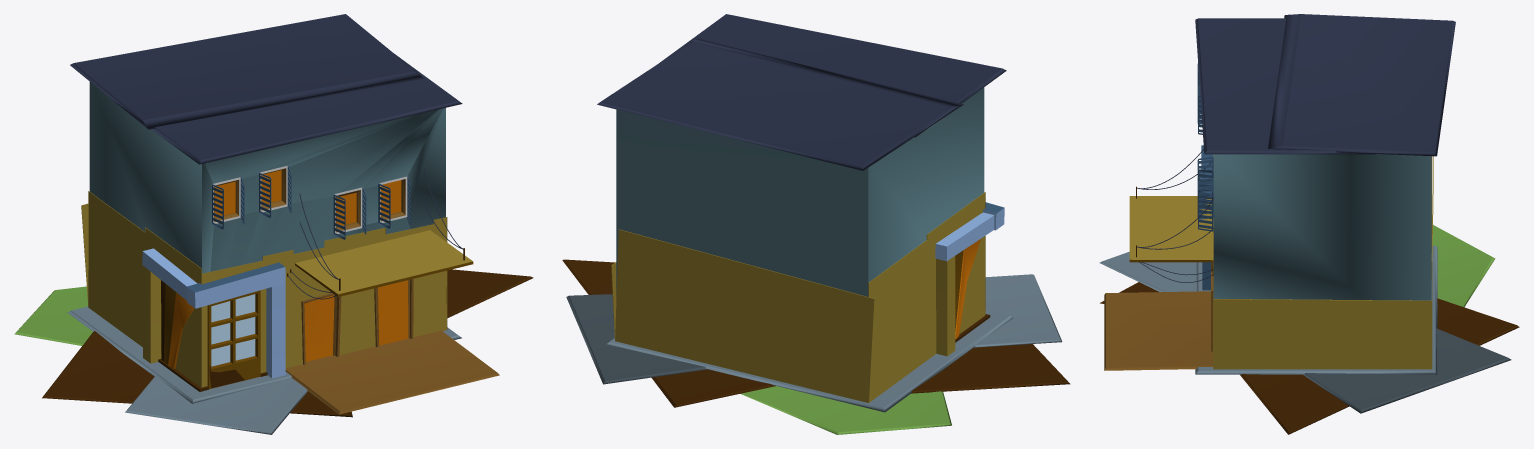
File: Palazzo Cafe con Tenda.fbx
3 renders of one model, left to right at view 1: azimuth 30°, elevation 25°; view 2: azimuth 150°, elevation 25°; view 3: azimuth 270°, elevation 25°, orthographic. The views are drawn at different scales.
Parts seen in each view (by area): view 1: Palazzo Cafe Con Tenda, Porta Palazzo Cafe Con Tenda; view 2: Palazzo Cafe Con Tenda; view 3: Palazzo Cafe Con Tenda.
Part boxes in pixels (<box>): Palazzo Cafe Con Tenda: <box>14,14,533,434</box>; Porta Palazzo Cafe Con Tenda: <box>207,290,260,389</box>; Palazzo Cafe Con Tenda: <box>562,14,1070,434</box>; Palazzo Cafe Con Tenda: <box>1099,14,1519,434</box>.
Size of the model in its own units: 262 by 125 by 200.
